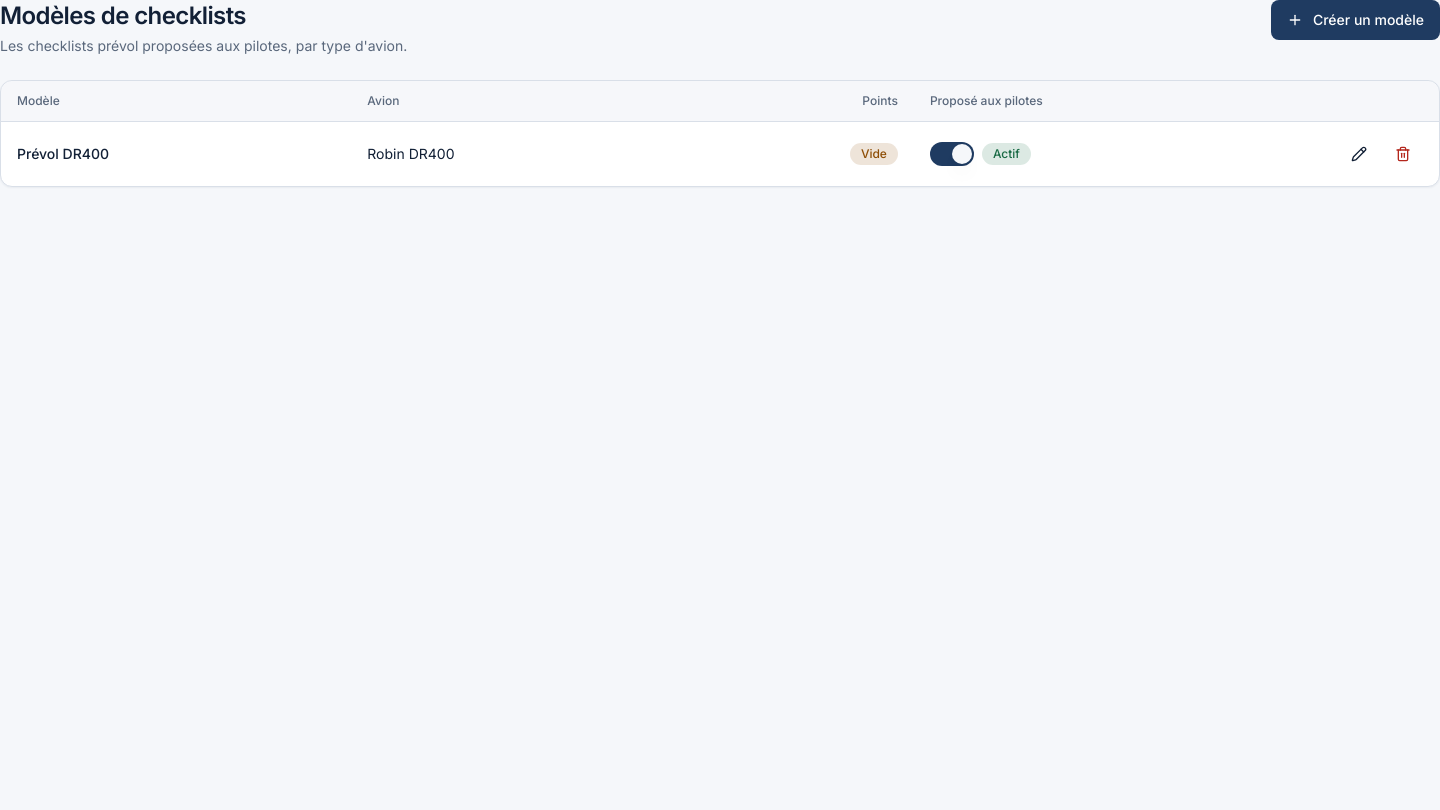
Scenario: AdminChecklistsPage — suppression d’un modèle › ne supprime rien si on annule
The image size is (1440, 810).
Click the button named "Supprimer le modèle Prévol DR400" at (1403, 154), box top-left (1383, 134), bottom-right (1423, 174)
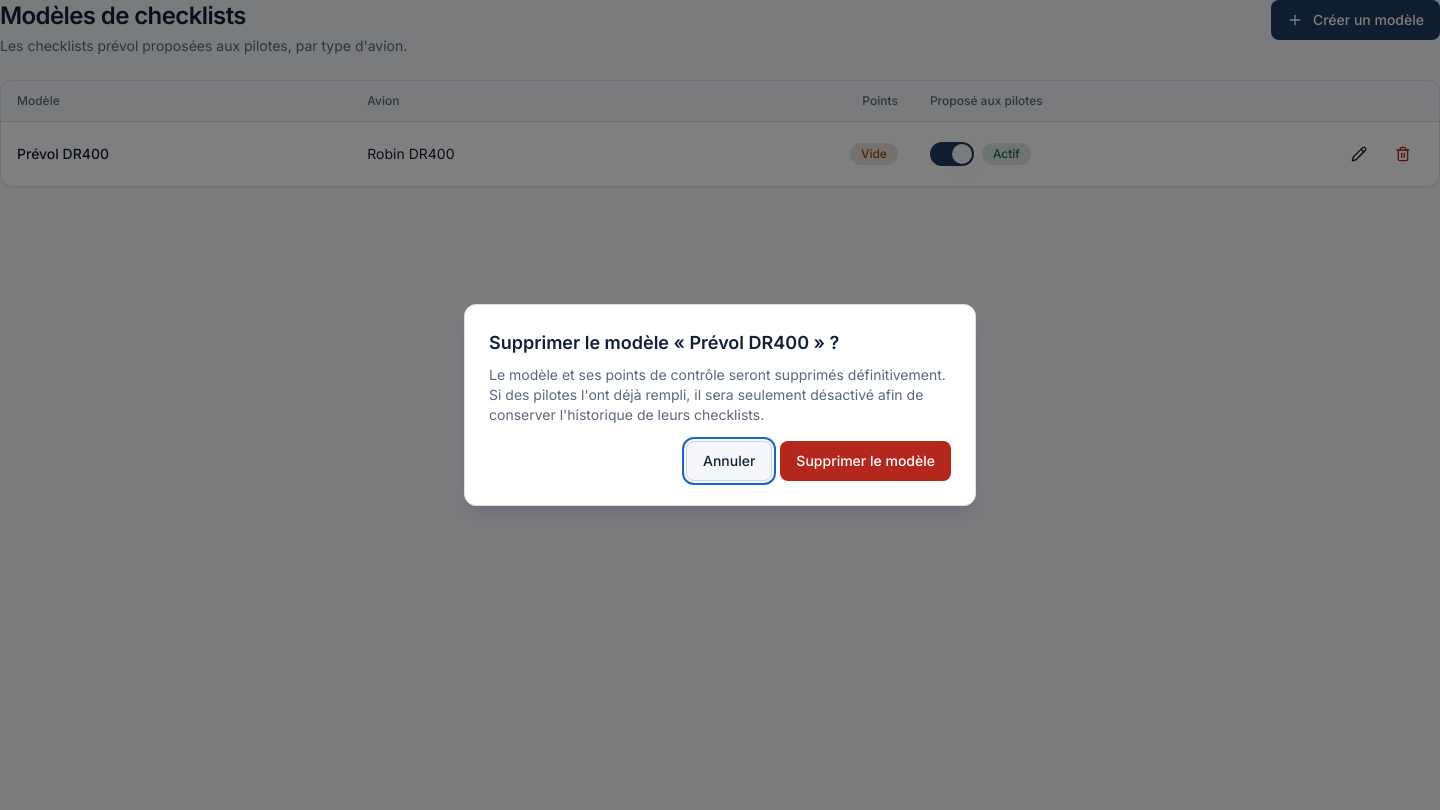
Click the button "Annuler" at (729, 461), box top-left (686, 441), bottom-right (772, 481)
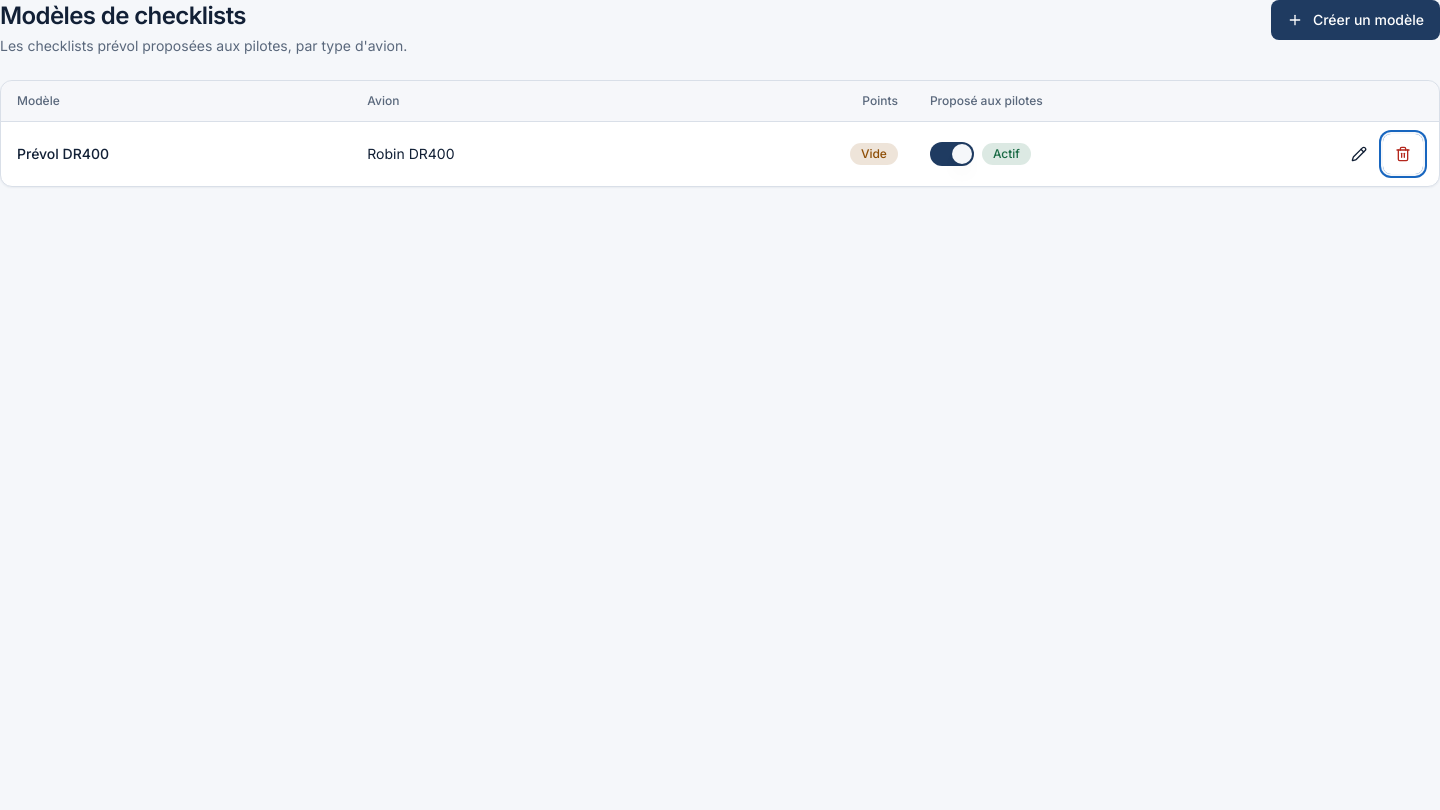
Expected: the text "Prévol DR400" is shown, top-left (17, 144), bottom-right (109, 162)
Now the dialog is gone
